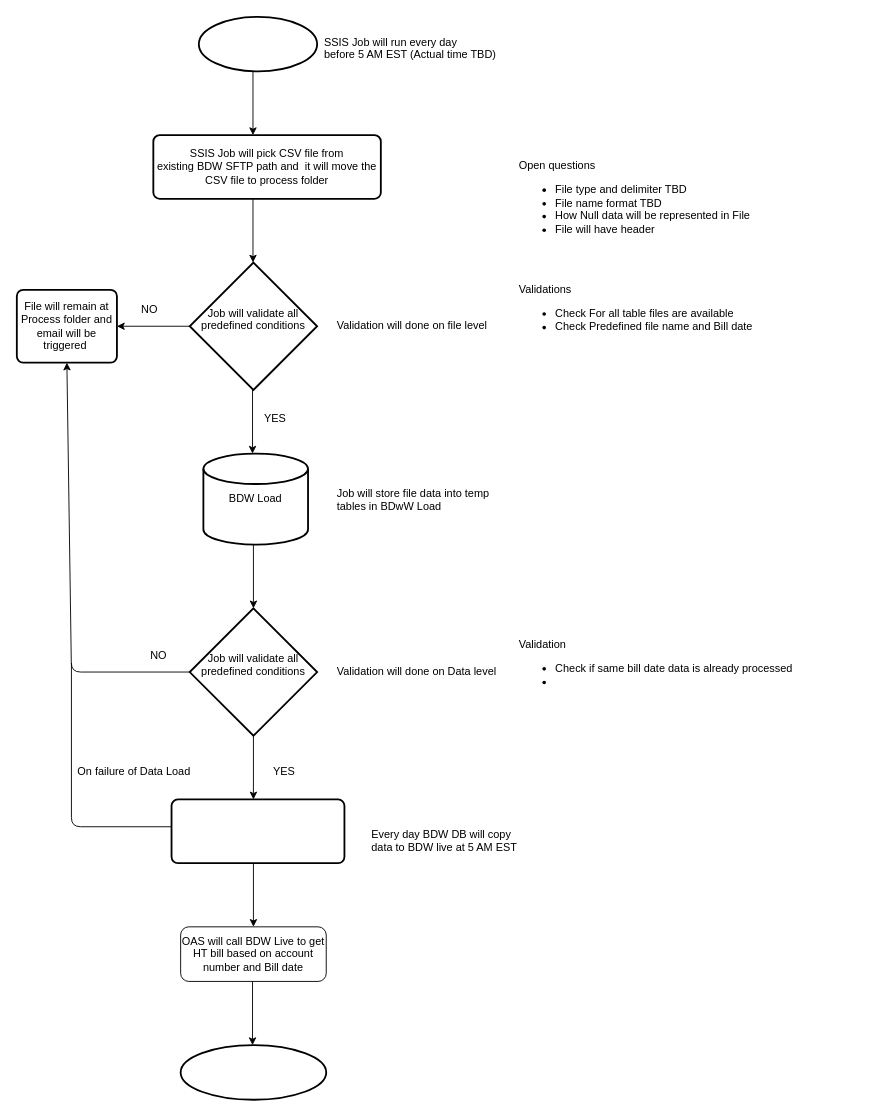
The diagram is 869 pixels wide and 1116 high, and some of its shapes have lost their labels. The box of each missing label's shape, as (x1, y1, x2, y2) in pixels:
Copy data from temp tables of BDW load to main tables of BDW: (170, 798, 345, 864)
Display Bill in BA: (179, 1044, 327, 1100)
Job Processing: (197, 15, 318, 72)
